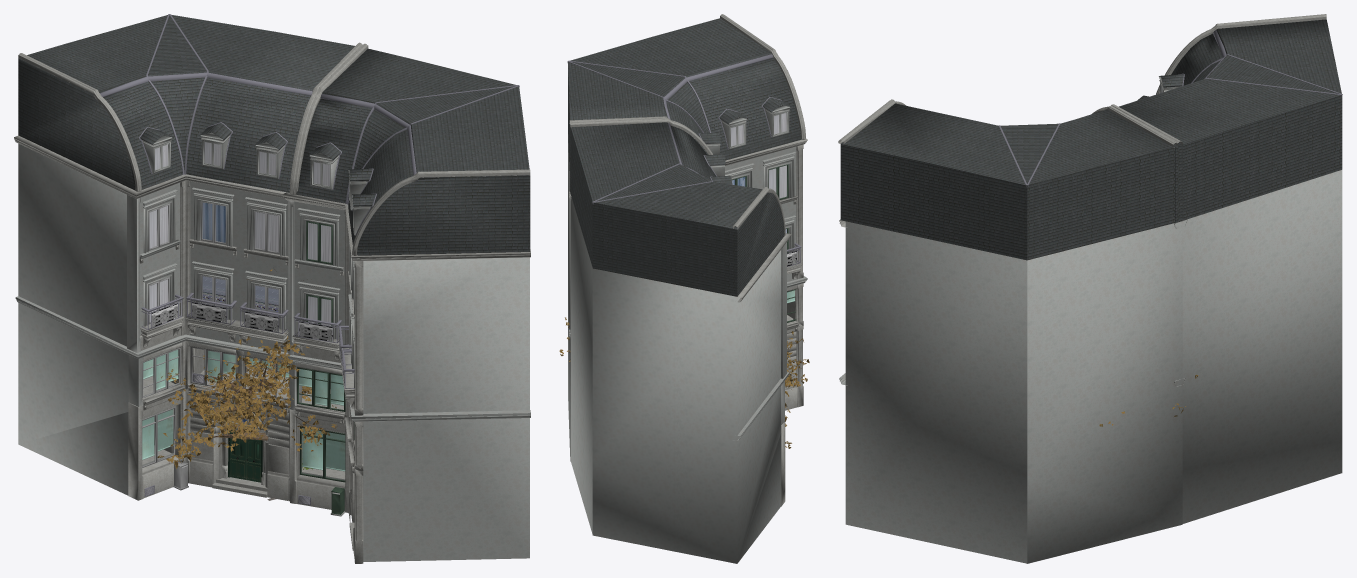
The model's file is bistro-kit.glb.
3 views of the same model, side by side, from view 1: azimuth 30°, elevation 25°; view 2: azimuth 150°, elevation 25°; view 3: azimuth 270°, elevation 25° (orthographic). The views are drawn at different scales.
Parts seen in each view (by area): view 1: bistro_townhouses, bistro_tree; view 2: bistro_townhouses, bistro_tree; view 3: bistro_townhouses.
Part boxes in pixels (bbox=[...]): bistro_townhouses: bbox=[14, 14, 530, 563]; bistro_tree: bbox=[157, 269, 337, 468]; bistro_townhouses: bbox=[567, 14, 807, 563]; bistro_tree: bbox=[559, 317, 809, 448]; bistro_townhouses: bbox=[838, 14, 1342, 563].
Bounding box in the file's own units: 32.54 × 34.94 × 40.92.
Materials: 30 (30 with a texture image).
